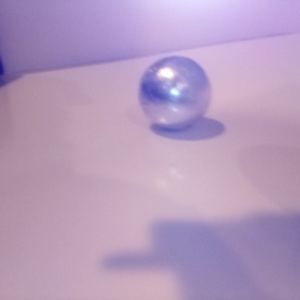alive_ball: (139, 56, 211, 132)
